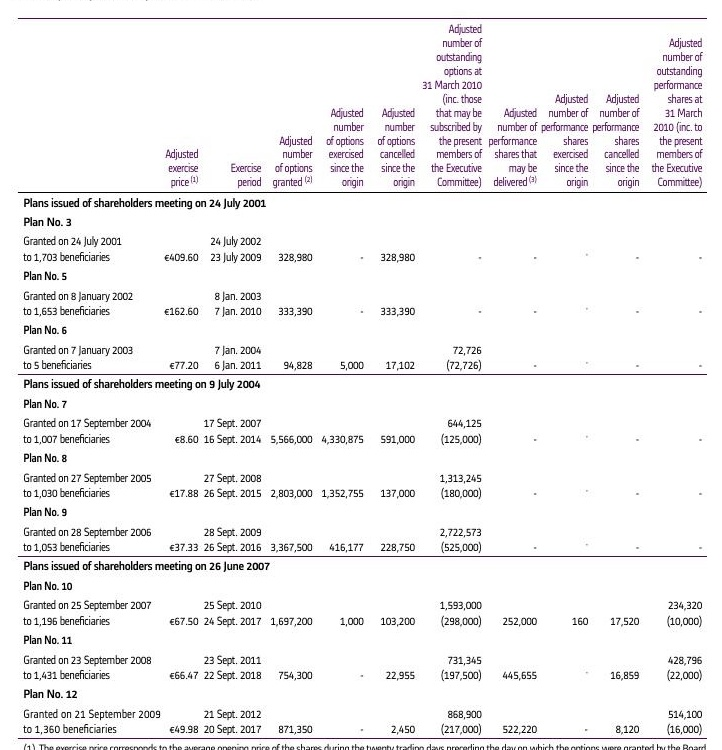table: (0, 0, 722, 750)
